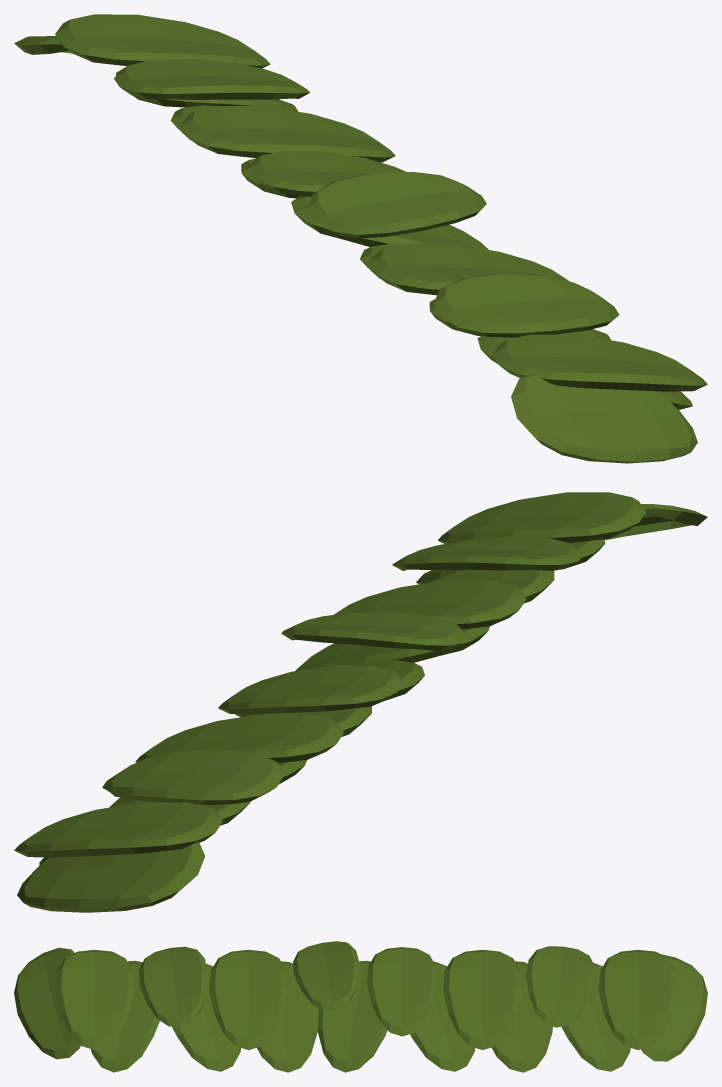
The model's file is grassside7.fbx.
3 views of the same model, one above another, from view 1: azimuth 30°, elevation 25°; view 2: azimuth 150°, elevation 25°; view 3: azimuth 270°, elevation 25° (orthographic). The views are drawn at different scales.
Visible parts, largest first — view 1: sidegrass.006; view 2: sidegrass.006; view 3: sidegrass.006.
Part boxes in pixels (left/top/right/bottom): sidegrass.006: left=14, top=14, right=707, bottom=463; sidegrass.006: left=14, top=492, right=707, bottom=912; sidegrass.006: left=14, top=941, right=707, bottom=1072.
Size of the model in its own units: 23.67 by 11.83 by 99.15.
